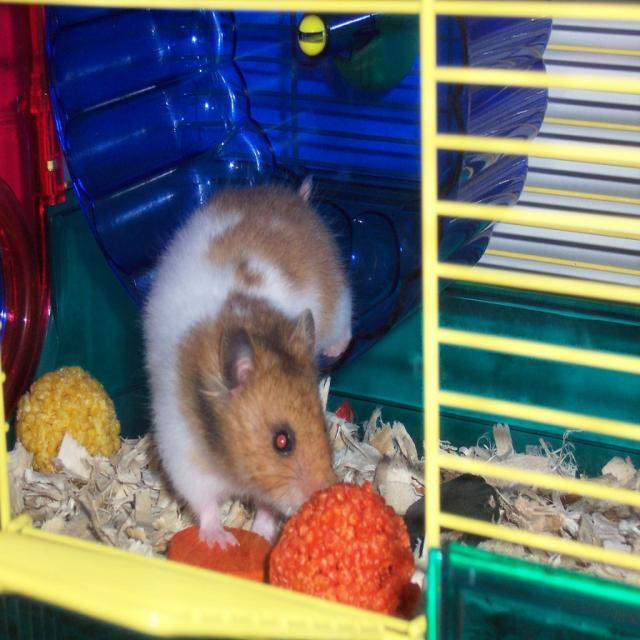rat: (142, 187, 350, 549)
